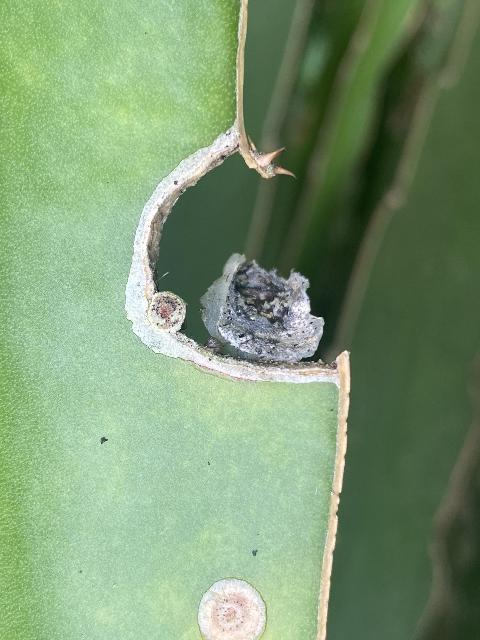stemcanker: (117, 87, 375, 384), (195, 560, 272, 640)
